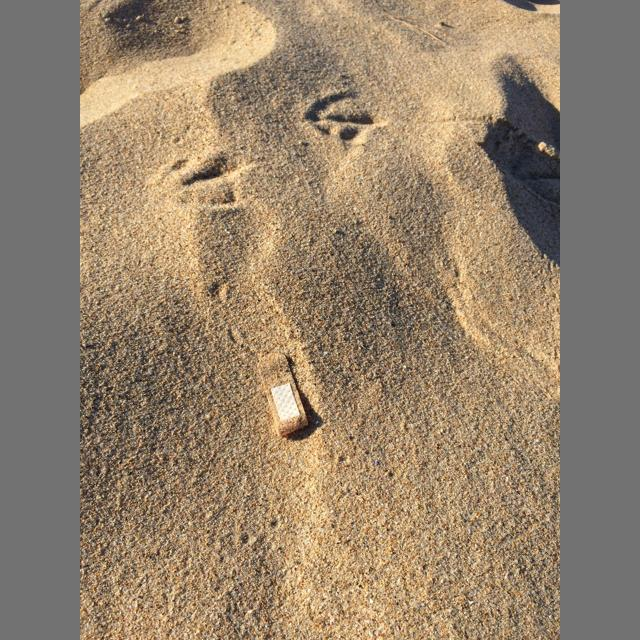litter: (257, 353, 308, 436)
